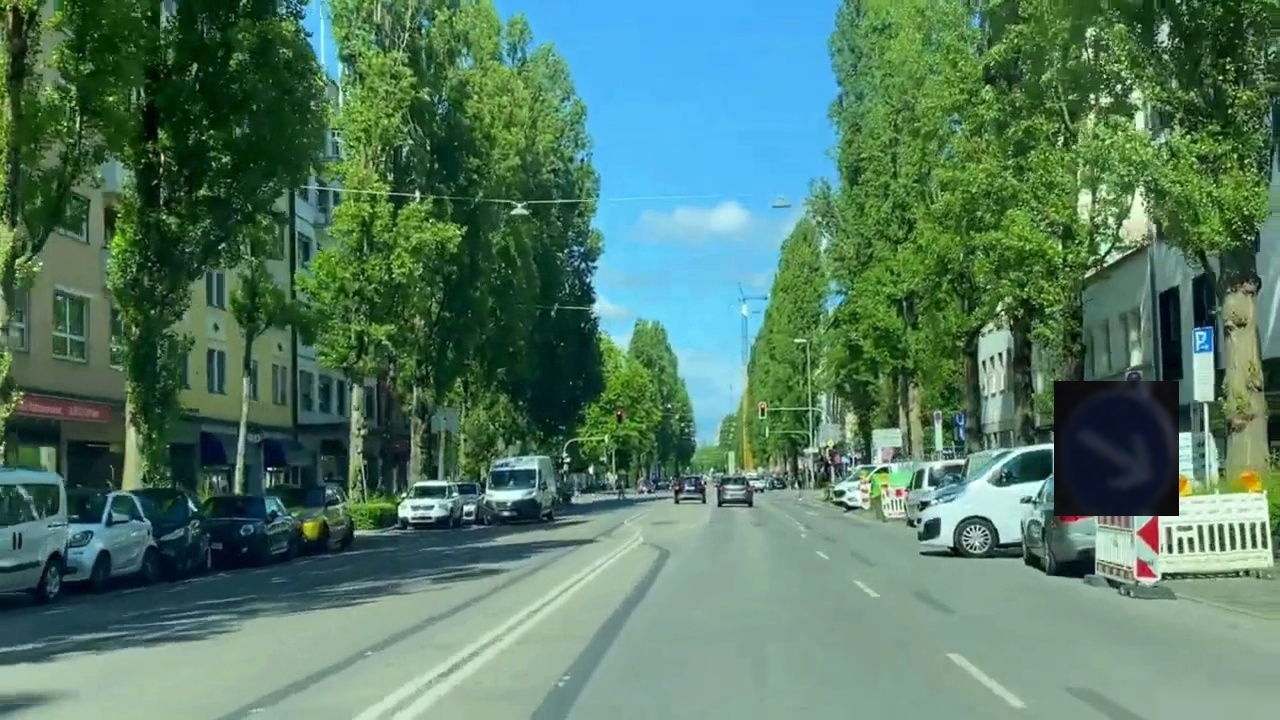Keep right: (1054, 381, 1179, 516)
